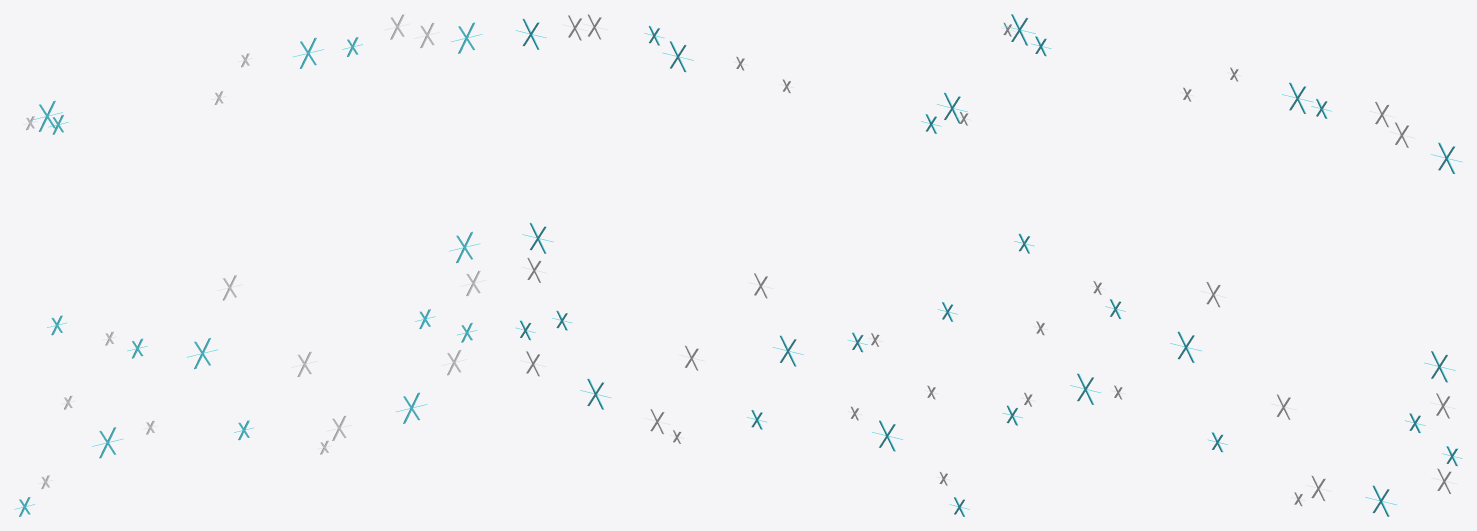
File: snowfall.glb
3 views of the same model, side by side, from view 1: azimuth 30°, elevation 25°; view 2: azimuth 150°, elevation 25°; view 3: azimuth 330°, elevation 25° (orthographic).
Size of the model in its own units: 4.19 by 3.62 by 0.17.
